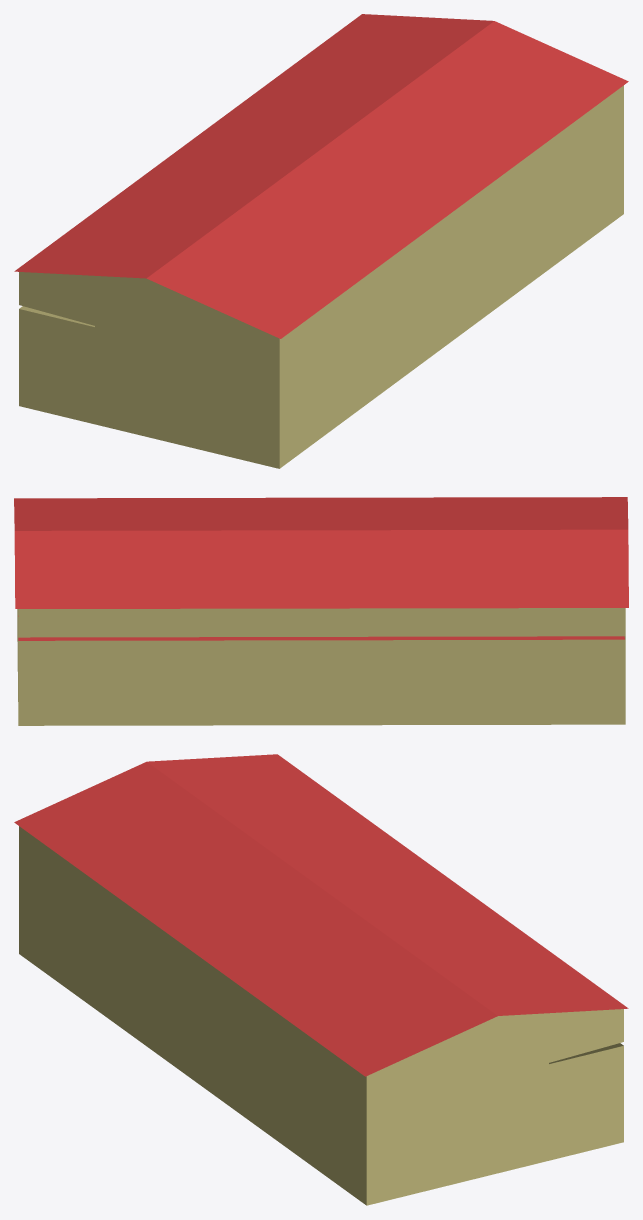
3 views of the same model, one above another, from view 1: azimuth 30°, elevation 25°; view 2: azimuth 150°, elevation 25°; view 3: azimuth 270°, elevation 25° (orthographic). The views are drawn at different scales.
Bounding box in the file's own units: 52.24 × 42.5 × 12.12.
